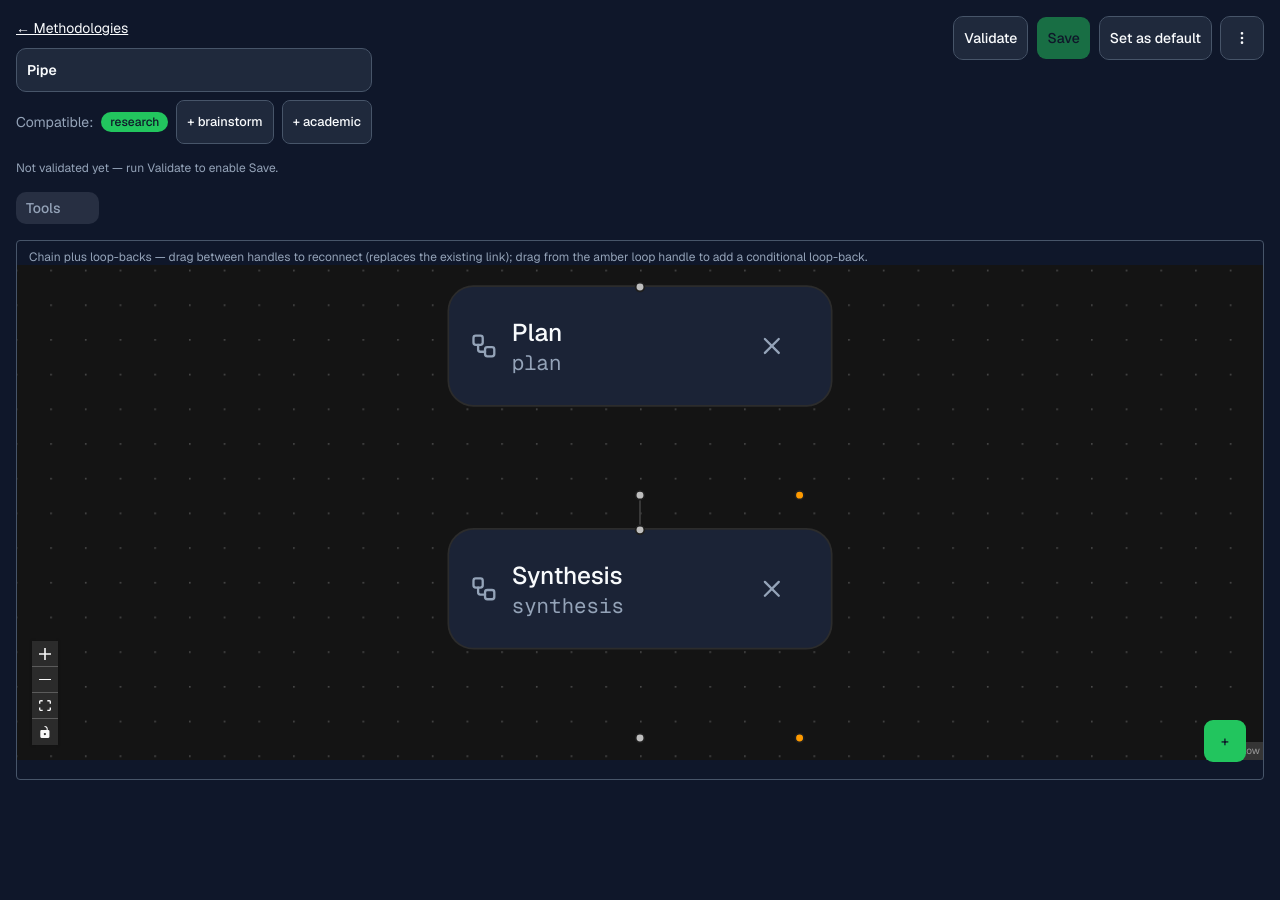
Test: BuilderPage conditions › a loop pointing nowhere fails loud with no PUT
expect the element with test id "stage-card-plan" is shown: met, box x1=449 y1=287 x2=831 y2=405
Click the button "Validate" at coordinates (991, 38), box x1=953 y1=16 x2=1028 y2=60
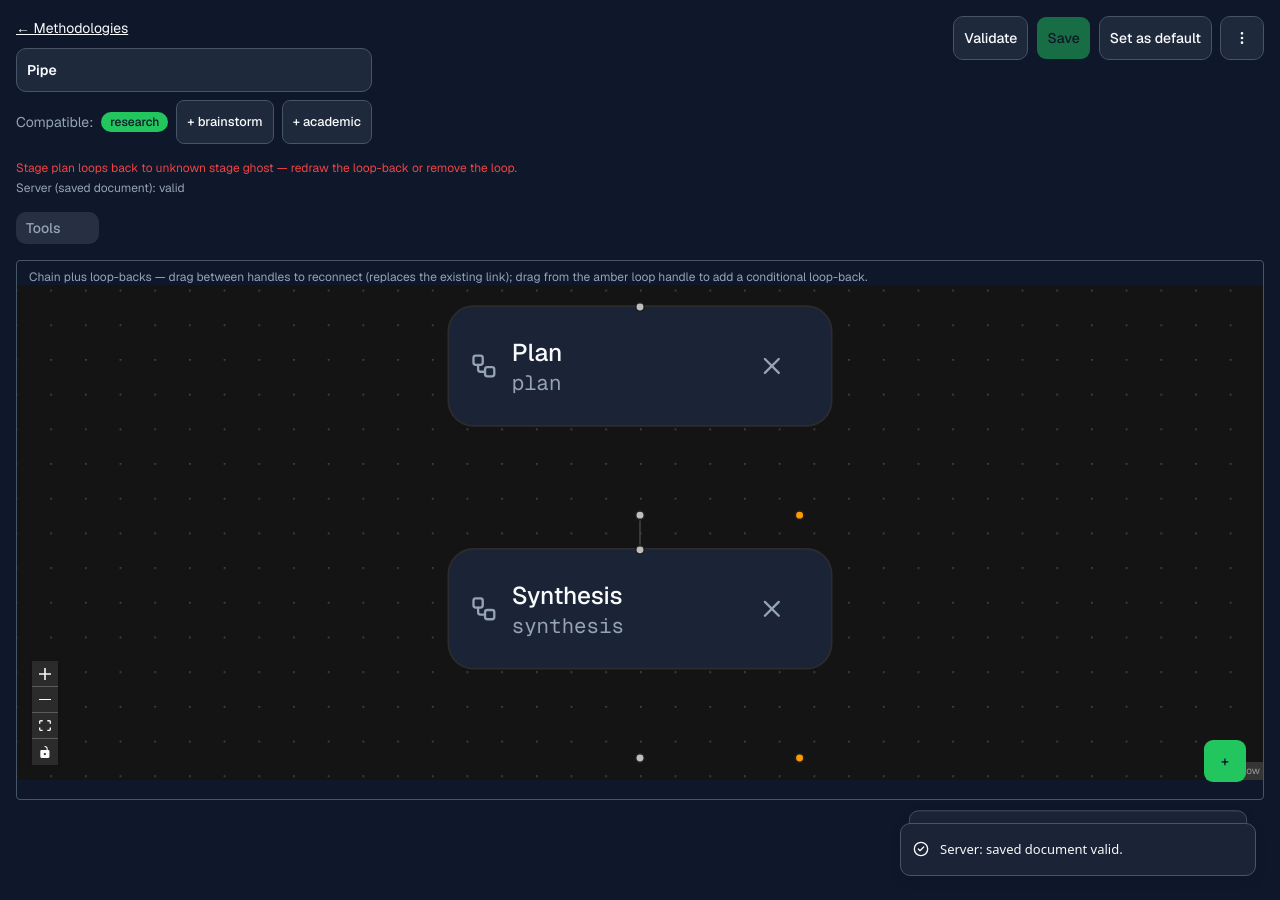
expect the button "Save" is disabled: met, box x1=1036 y1=16 x2=1091 y2=60
expect the list item "unknown stage ghost" is shown: met, box x1=16 y1=160 x2=517 y2=176
